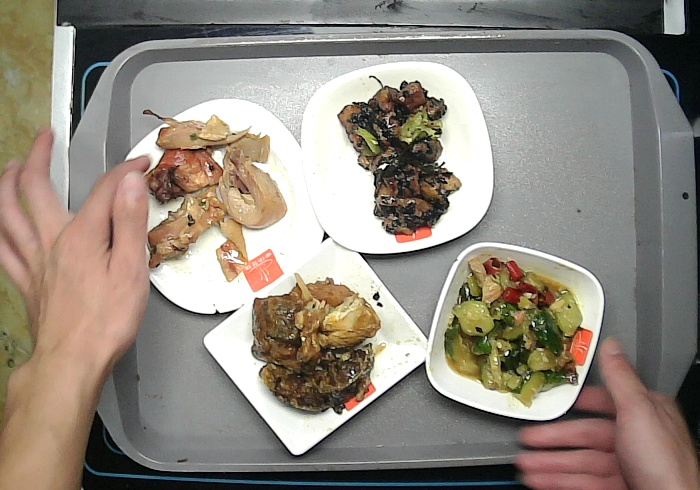SHKJ-Bai_Se_Cai_Die: (300, 58, 496, 256)
SHKJ-Bai_Se_Si_Fang_Cai_Die: (115, 96, 329, 317)
SHKJ-Bai_Se_Xiao_Fang_Die: (423, 239, 608, 421)
SHKJ-Si_Fang_Min: (203, 235, 434, 457)
